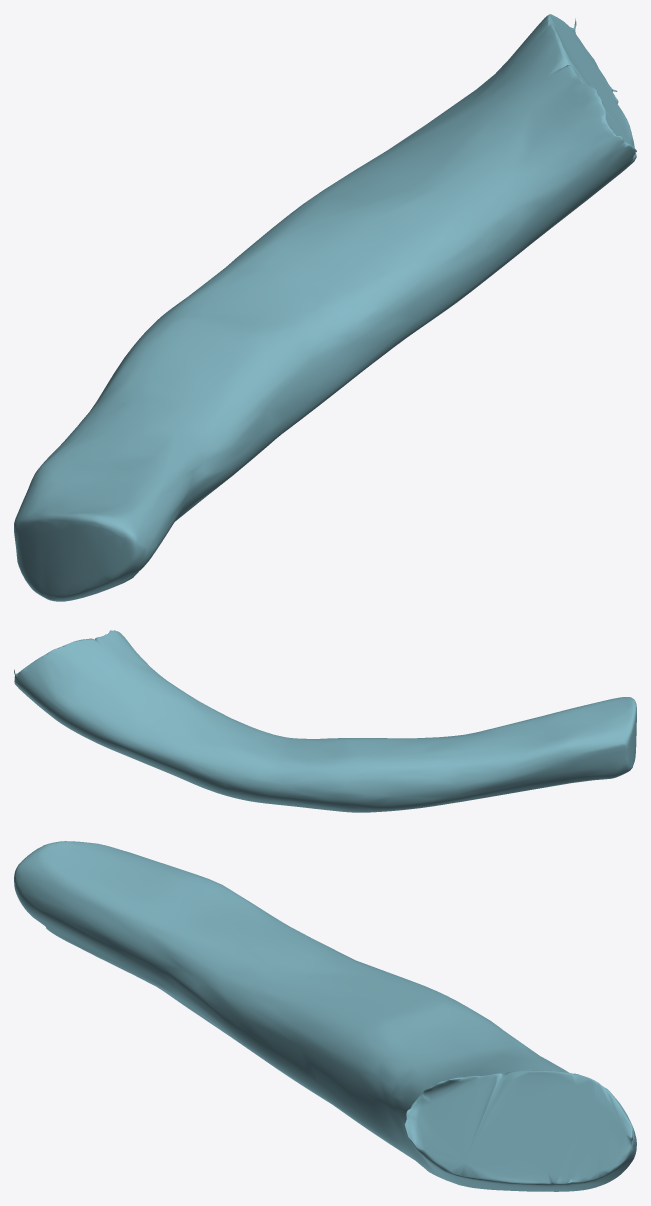
3 renders of one model, top to bottom at view 1: azimuth 30°, elevation 25°; view 2: azimuth 150°, elevation 25°; view 3: azimuth 270°, elevation 25°, orthographic. The views are drawn at different scales.
Visible parts, largest first — view 1: 左侧第六肋软骨; view 2: 左侧第六肋软骨; view 3: 左侧第六肋软骨.
Boxes of the visible parts, x1=… form: 左侧第六肋软骨: x1=14, y1=14, x2=636, y2=601; 左侧第六肋软骨: x1=14, y1=630, x2=636, y2=812; 左侧第六肋软骨: x1=14, y1=841, x2=636, y2=1191.
Bounding box in the file's own units: 0.1217 × 0.0334 × 0.0821.
